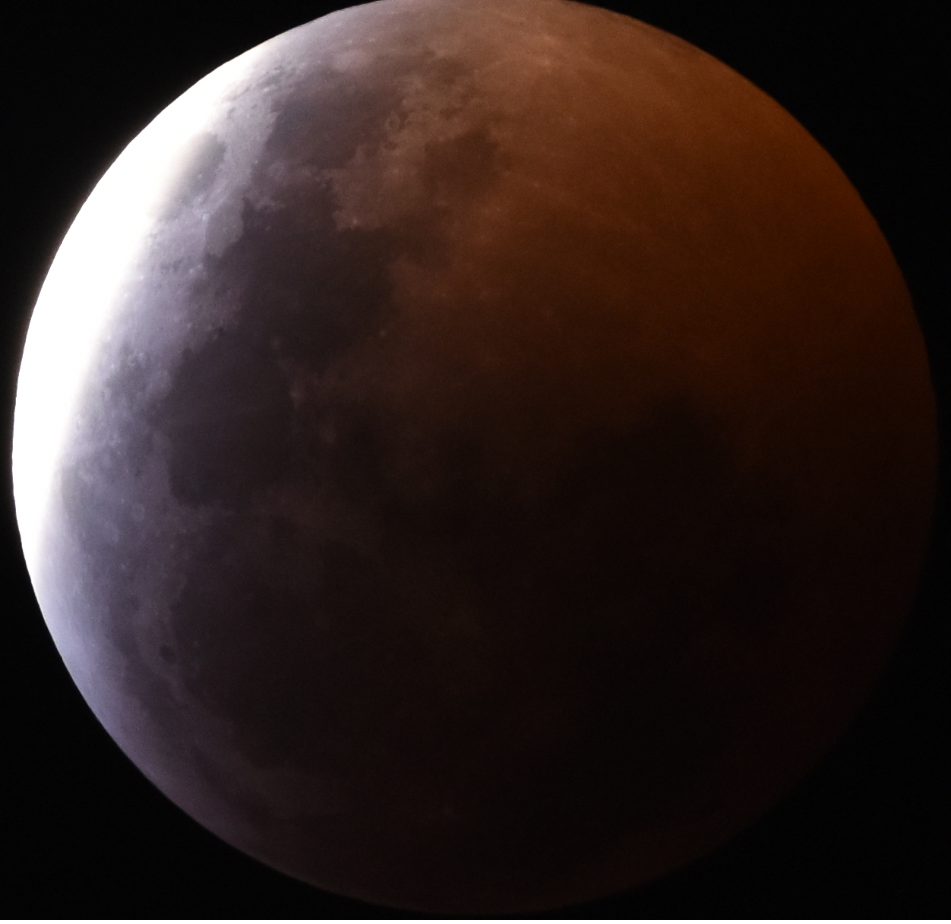crater: (506, 14, 579, 87), (145, 628, 198, 677), (427, 790, 465, 835), (114, 588, 153, 618), (519, 168, 551, 201), (174, 309, 203, 341), (279, 377, 306, 407), (342, 206, 367, 236), (372, 313, 397, 342), (126, 496, 150, 522), (129, 464, 155, 486)
